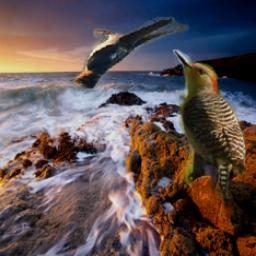Swallow: (67, 17, 190, 93)
Woodpecker: (174, 50, 247, 199)
